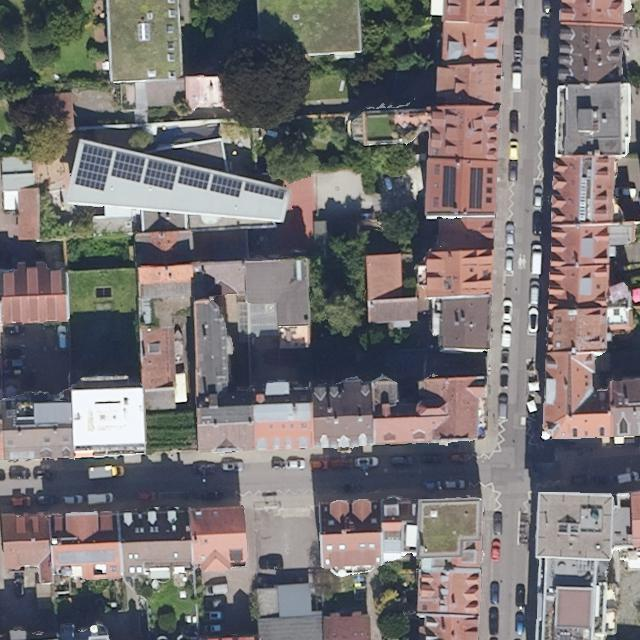PV: (73, 142, 114, 193), (110, 150, 147, 185), (142, 158, 179, 192), (208, 173, 244, 199), (243, 181, 285, 202), (177, 166, 211, 191), (442, 165, 456, 208), (469, 168, 483, 209)
